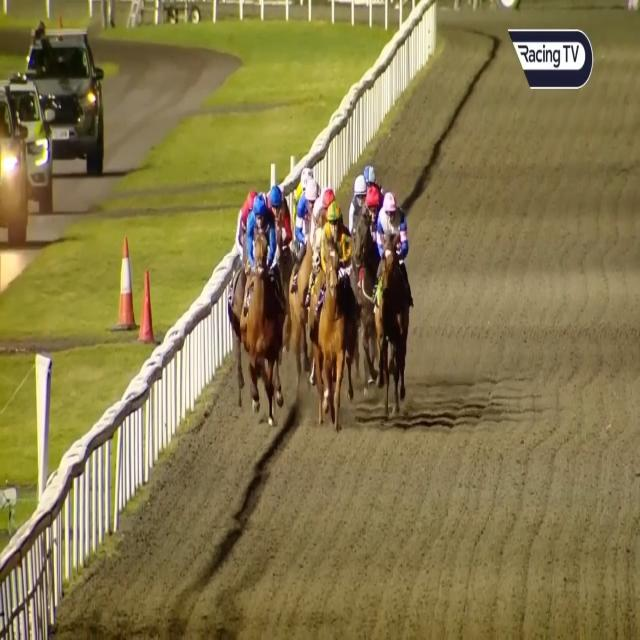horses-racing: (378, 183, 413, 396), (248, 200, 277, 402), (320, 200, 347, 410), (352, 192, 387, 294), (269, 183, 295, 243), (296, 176, 326, 220), (345, 173, 370, 224), (313, 187, 337, 215), (238, 188, 259, 217), (294, 160, 312, 193), (363, 161, 379, 186)
